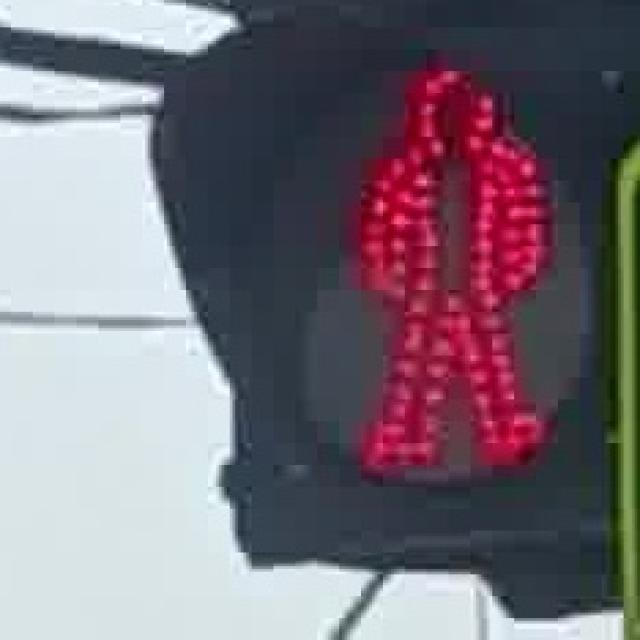red-crossing: (323, 43, 566, 496)
